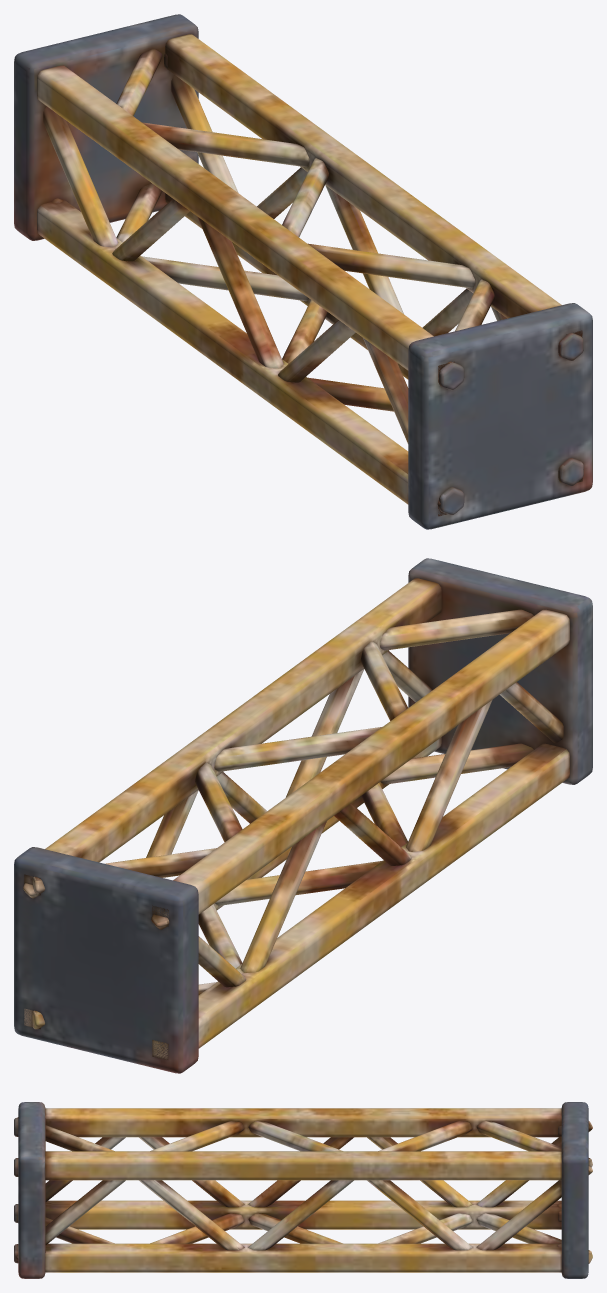
The model's file is girder.glb.
The picture shows the model from 3 angles, top to bottom: view 1: azimuth 30°, elevation 25°; view 2: azimuth 150°, elevation 25°; view 3: azimuth 270°, elevation 25°; orthographic projection. The views are drawn at different scales.
Visible parts, largest first — view 1: body; view 2: body; view 3: body.
Part boxes in pixels (x1=…): body: x1=14, y1=14, x2=592, y2=529; body: x1=14, y1=558, x2=592, y2=1073; body: x1=14, y1=1102, x2=592, y2=1278.
Size of the model in its own units: 0.2 by 0.2 by 0.8527.
1 material, 1 textured.
